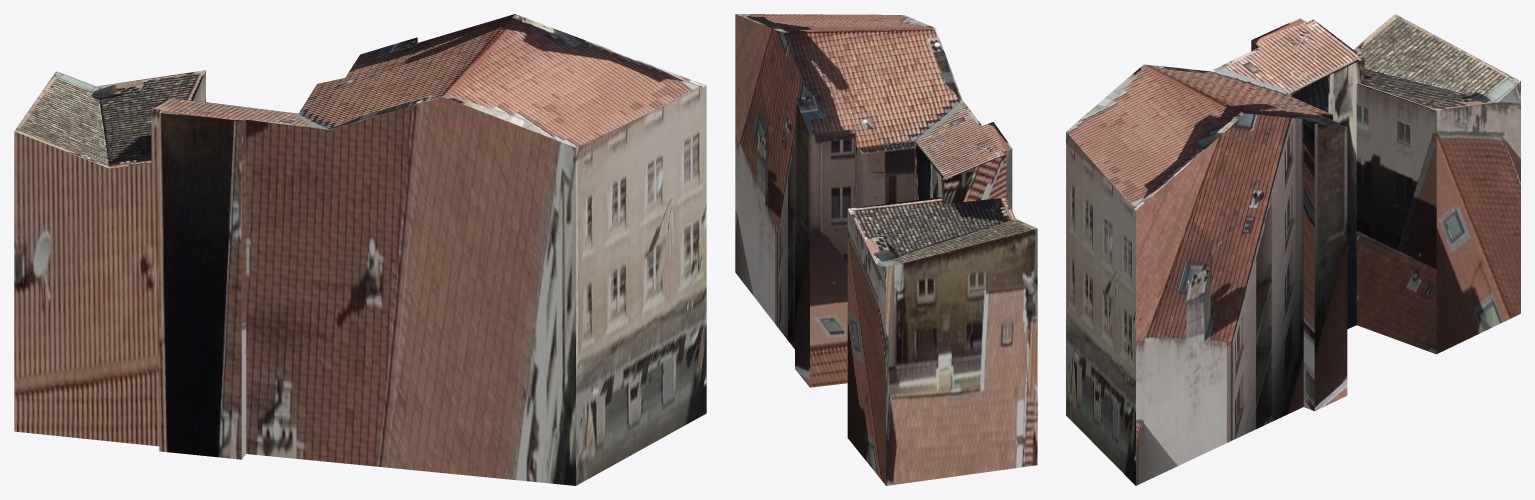
3 views of the same model, side by side, from view 1: azimuth 30°, elevation 25°; view 2: azimuth 150°, elevation 25°; view 3: azimuth 270°, elevation 25° (orthographic). The views are drawn at different scales.
Parts seen in each view (by area): view 1: Z_UP; view 2: Z_UP; view 3: Z_UP.
Part boxes in pixels (box(x1,y1,x2,y2)): Z_UP: box(14, 14, 706, 485); Z_UP: box(735, 14, 1037, 485); Z_UP: box(1066, 14, 1520, 485).
Bounding box in the file's own units: 26.2 × 17.8 × 22.88.
2 materials, 1 textured.
